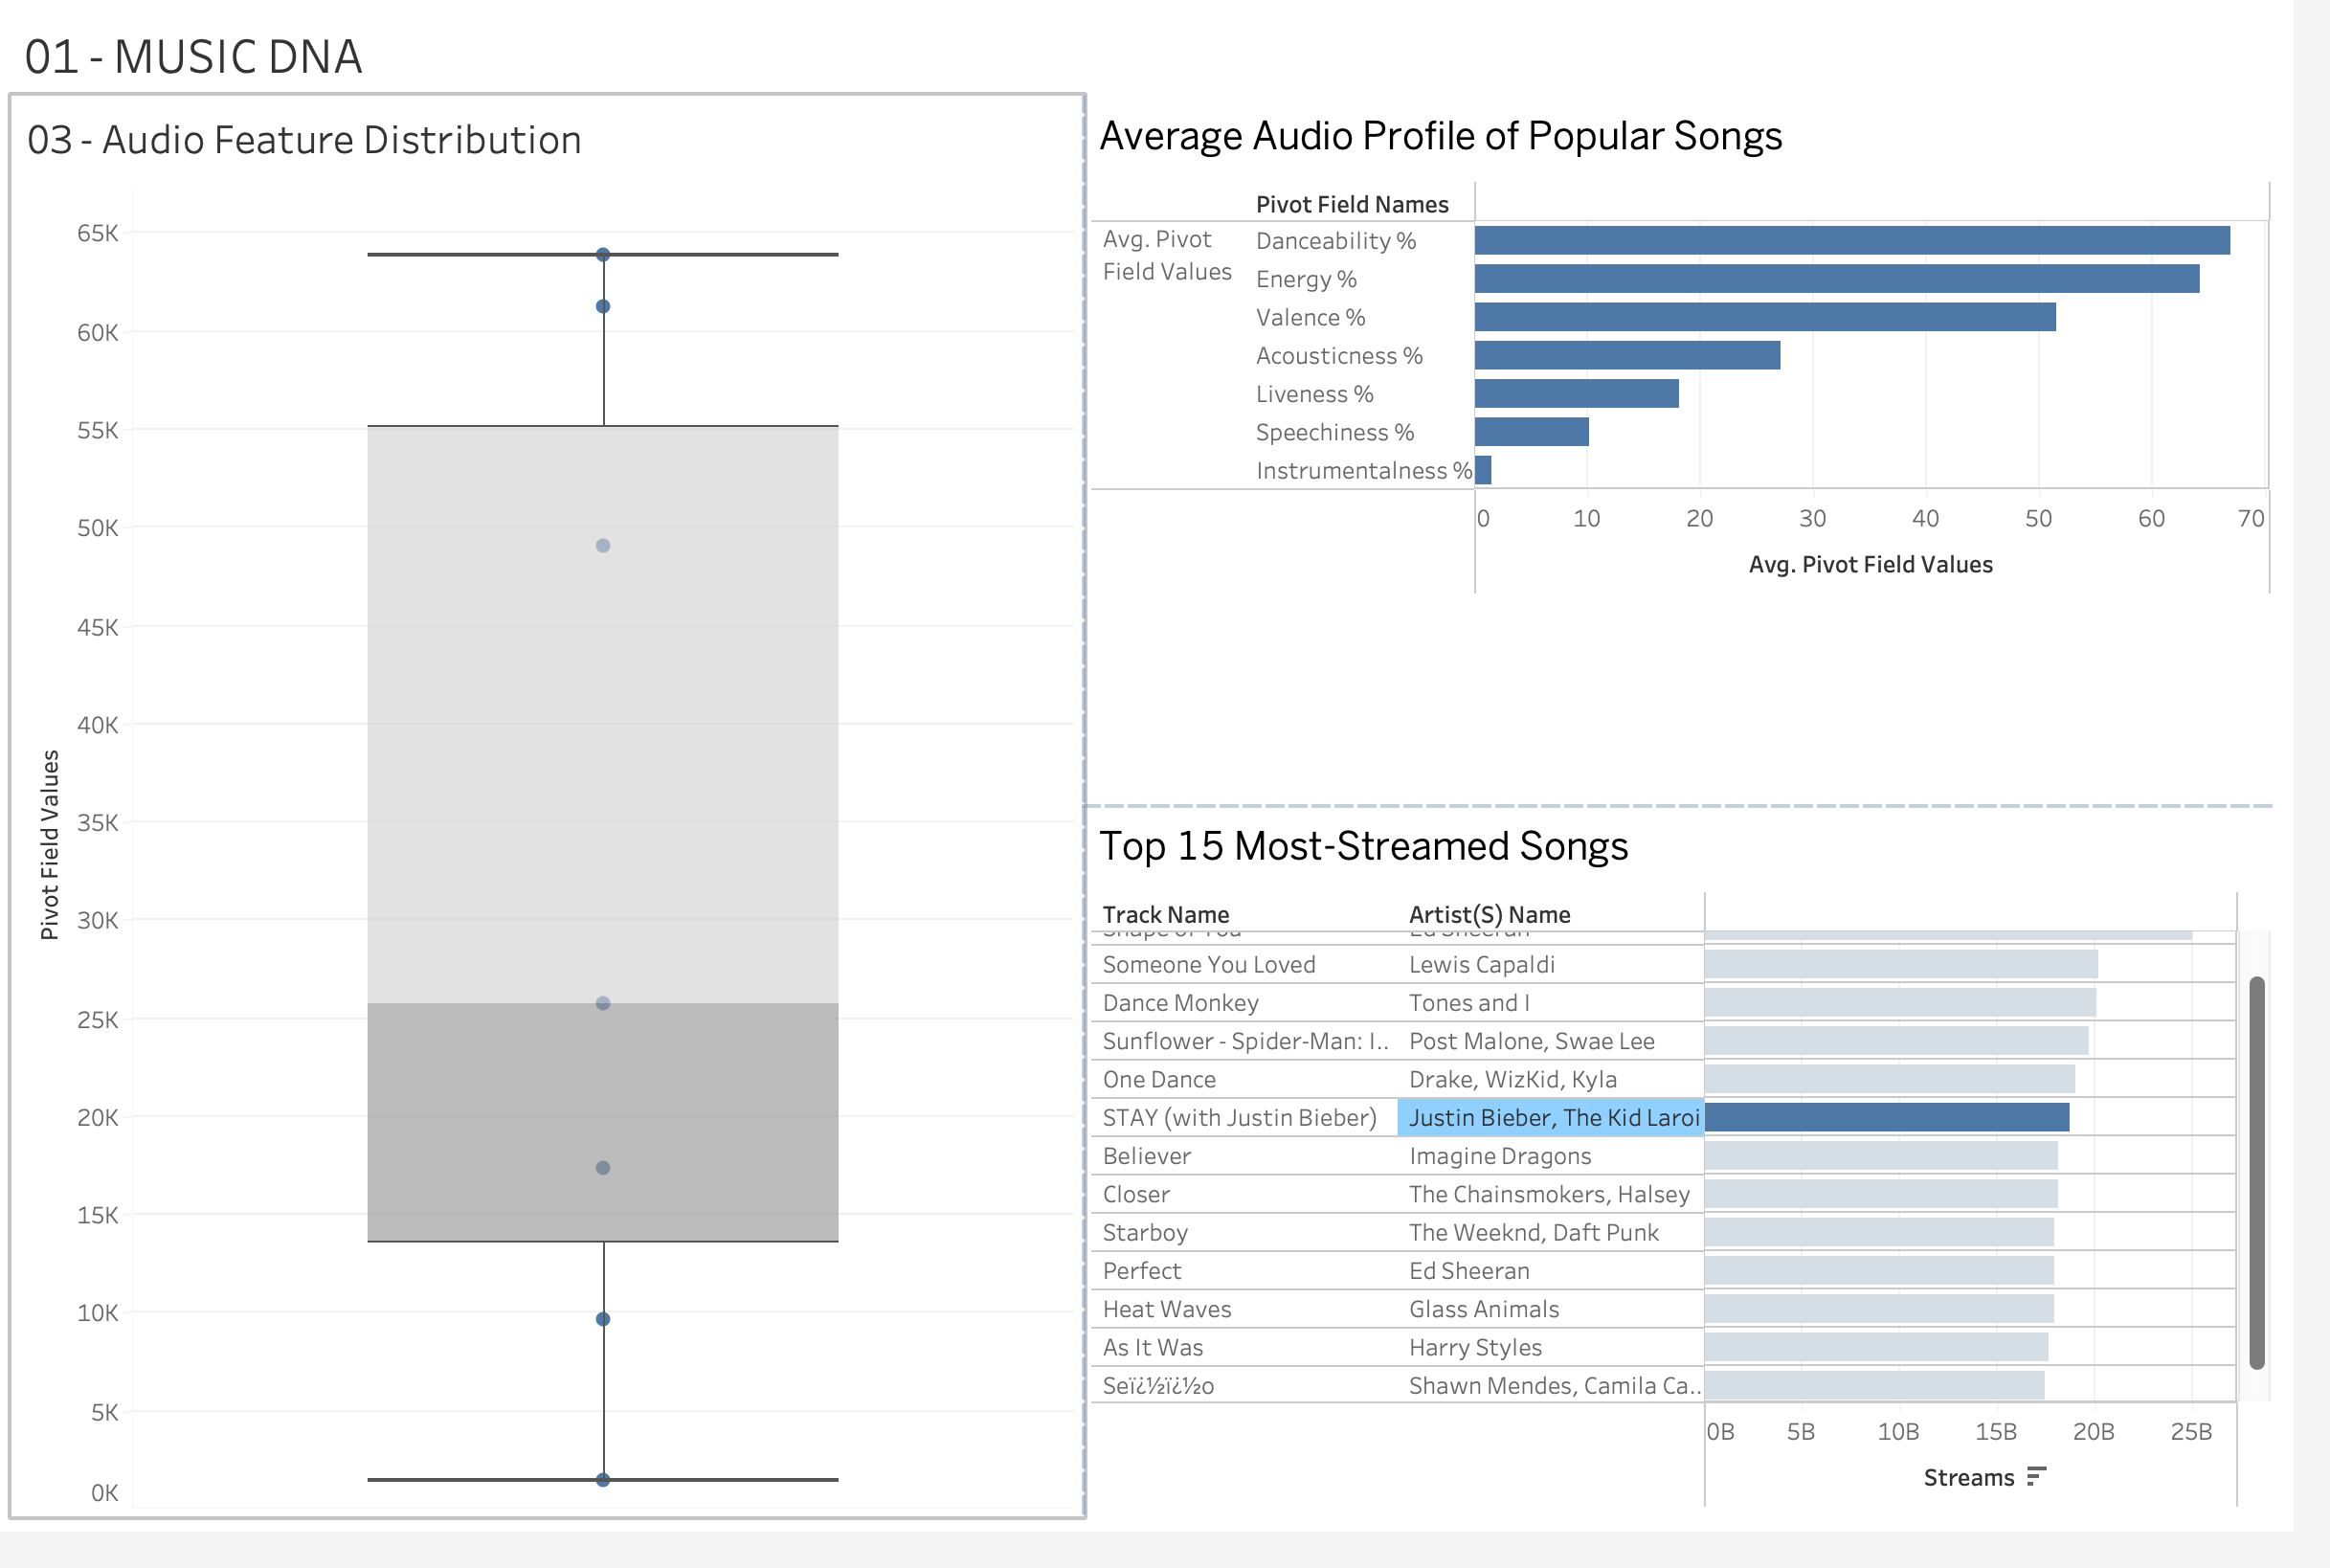

What the dashboard file says about the page in this screenshot:
{"tool":"tableau","page":{"name":"01 - MUSIC DNA","canvas":[1200,800],"ordinal":0},"visuals":[{"type":"title","box":[8,8,1184,42]},{"type":"worksheet","title":"03 - Audio Feature Distribution","mark":"Circle","rows":["Pivot Field Values"],"box":[8,50,560,742]},{"type":"worksheet","title":"01 - Audio Feature Profile","mark":"Automatic","rows":["Pivot Field Names"],"cols":["Pivot Field Values"],"box":[568,50,624,371]},{"type":"worksheet","title":"04 - Top 15 Songs","mark":"Automatic","rows":["track_name","artist(s)_name"],"cols":["streams"],"box":[568,421,624,371]}]}

Visuals, with their boxes in screenshot pixels (x1, y1, x2, y2), scaled from the page's 1200x800 canvas onto the 2330x1568 screenshot:
title: {"left": 15, "top": 15, "right": 2315, "bottom": 98}
"03 - Audio Feature Distribution" worksheet (Circle marks): {"left": 15, "top": 98, "right": 1103, "bottom": 1553}
"01 - Audio Feature Profile" worksheet: {"left": 1103, "top": 98, "right": 2315, "bottom": 825}
"04 - Top 15 Songs" worksheet: {"left": 1103, "top": 825, "right": 2315, "bottom": 1553}
